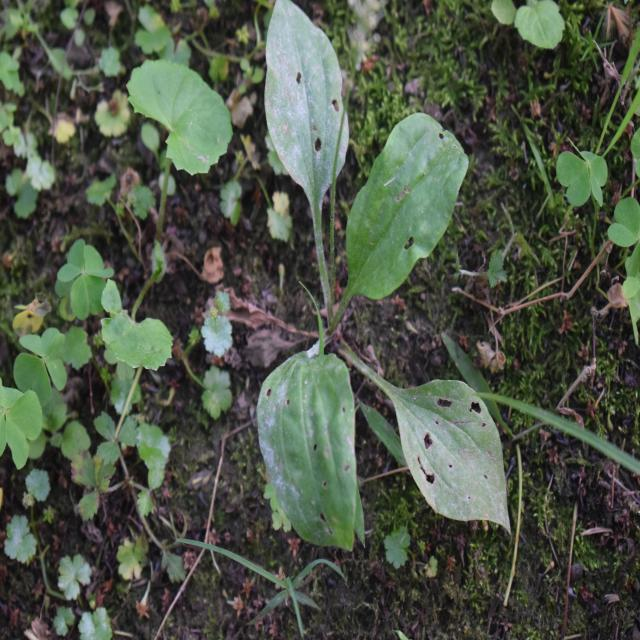plantain: (262, 18, 509, 569)
